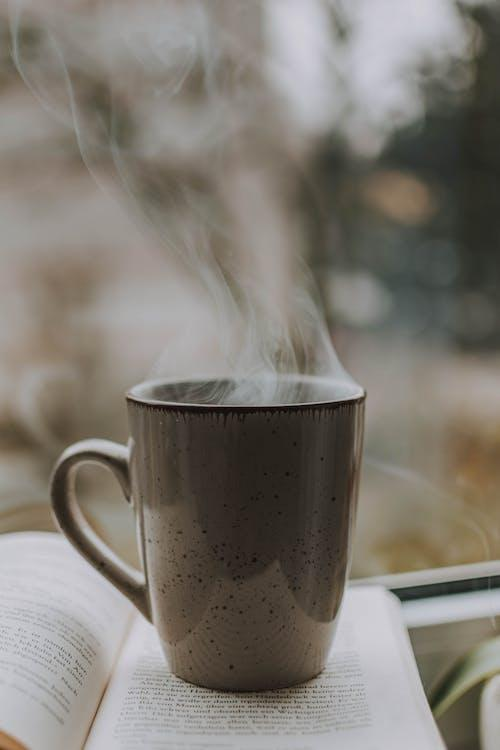Mug: (74, 339, 417, 707)
